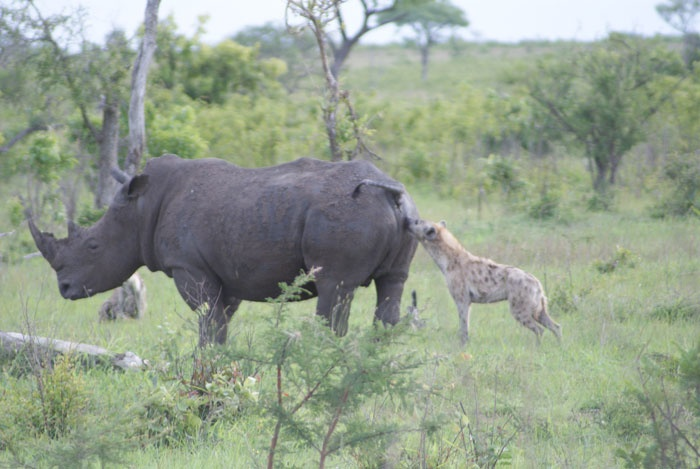rhino: (30, 152, 421, 361)
